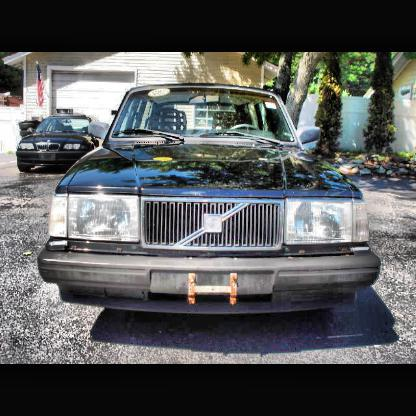Volvo 240 Sedan 1993: (40, 86, 383, 325)
